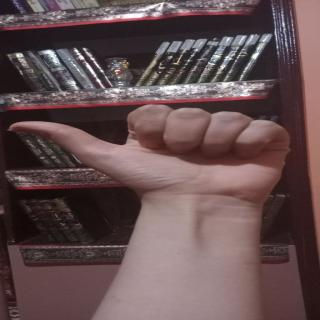DAD: (7, 97, 315, 201)
